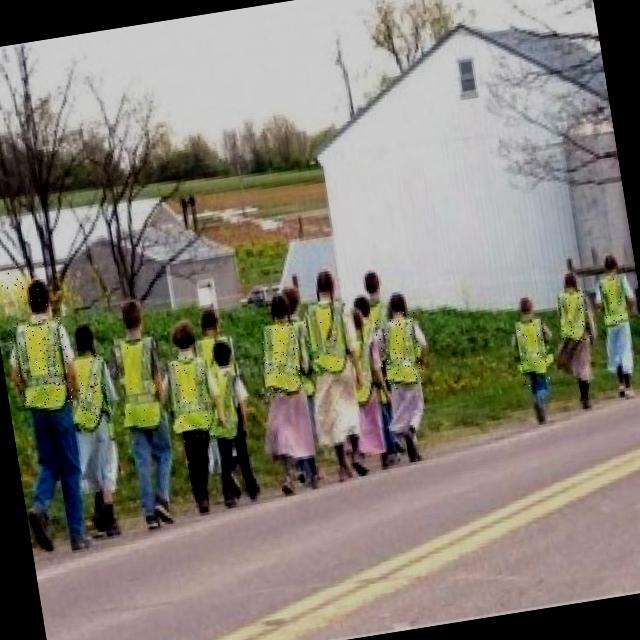helmet: (0, 261, 50, 313)
no-helmet: (20, 258, 66, 332), (373, 278, 422, 332), (63, 308, 107, 356), (112, 288, 152, 340), (187, 294, 235, 337), (162, 308, 202, 354), (356, 258, 385, 313), (550, 258, 586, 302), (306, 262, 338, 309), (504, 283, 540, 324), (588, 246, 624, 284)
vest: (8, 316, 75, 409), (110, 333, 164, 428), (373, 310, 425, 390), (170, 354, 216, 442), (302, 303, 354, 378), (258, 320, 305, 398), (73, 354, 112, 431), (515, 319, 553, 386), (556, 288, 592, 346), (598, 277, 630, 330)
